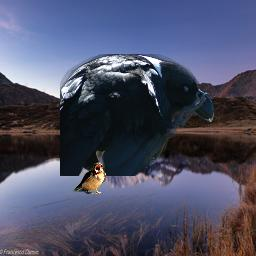Crow: (60, 54, 217, 176)
Swallow: (73, 162, 106, 194)
